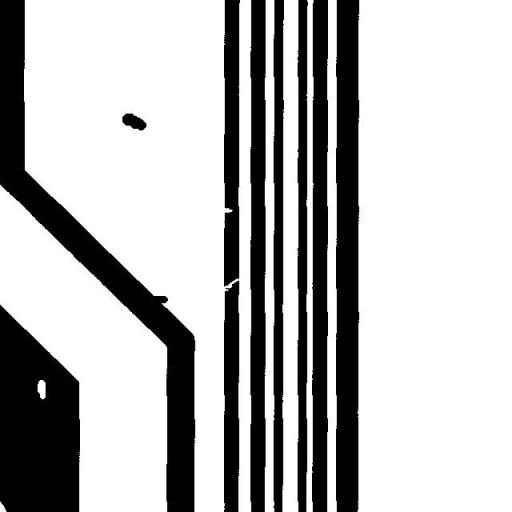copper: (114, 106, 154, 138)
mousebite: (214, 200, 240, 220)
open: (212, 269, 250, 298)
pin-hole: (30, 372, 52, 406)
spur: (134, 288, 176, 310)
